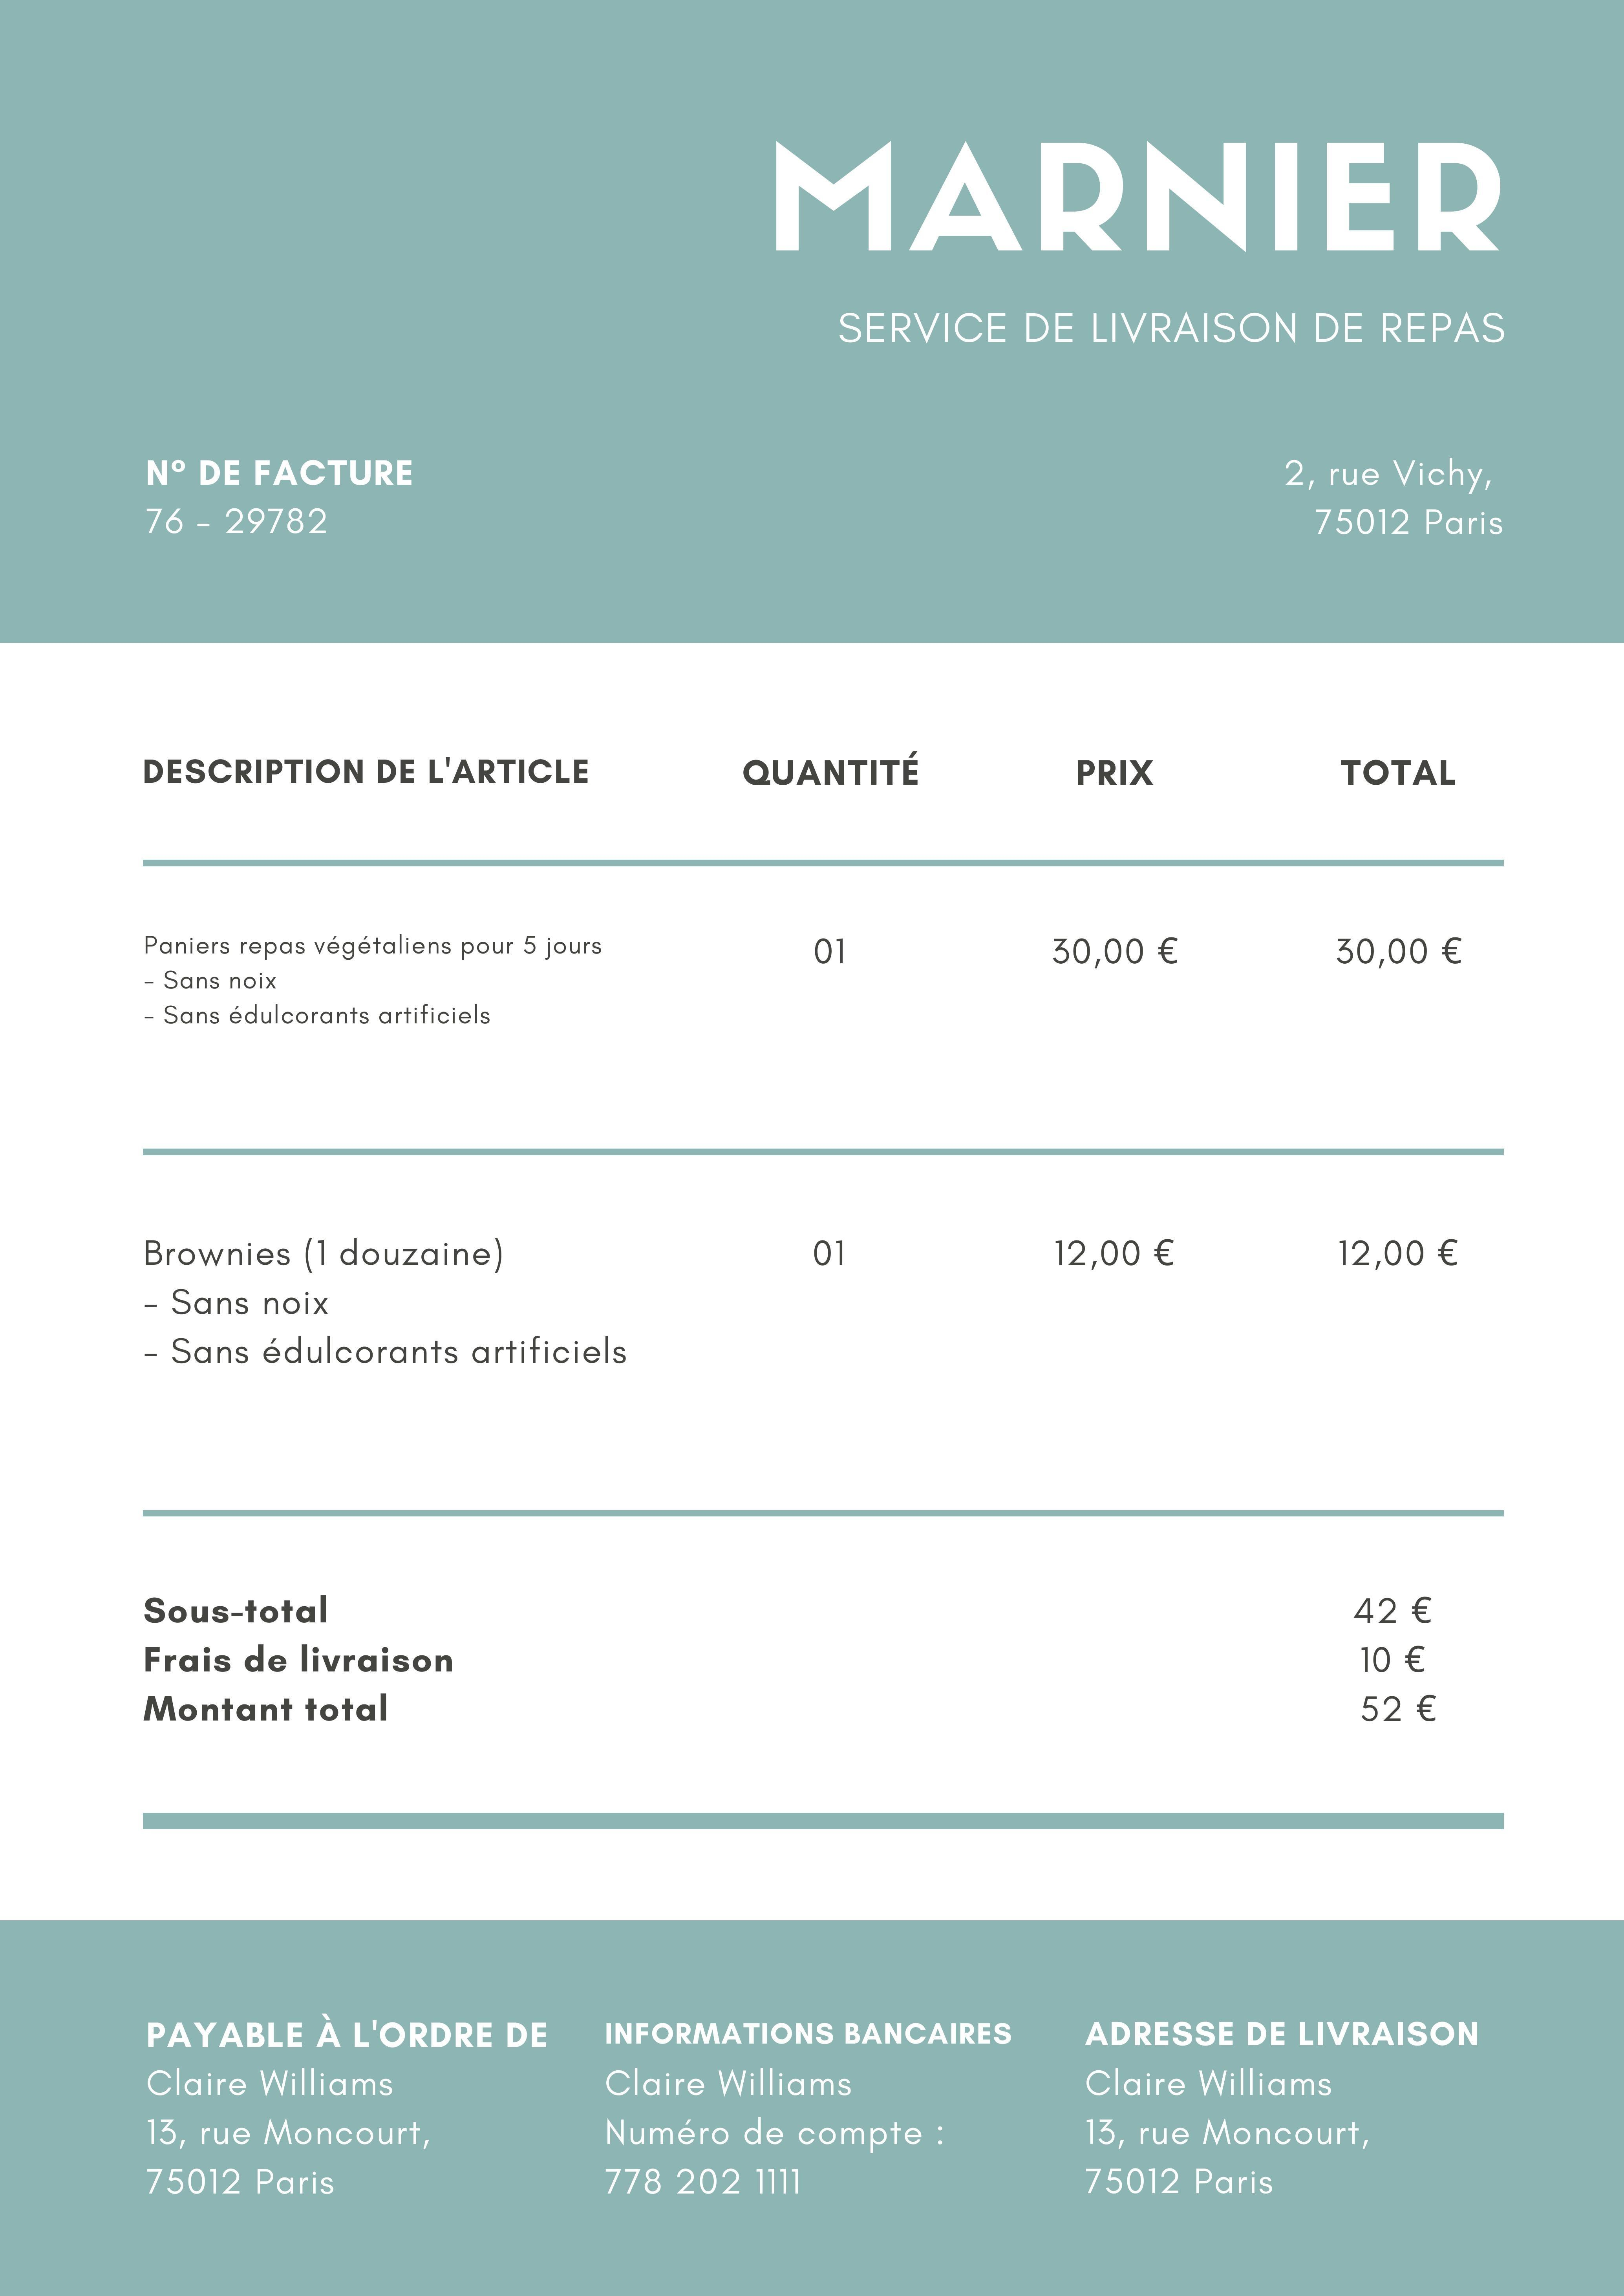ROI: (114, 695, 1504, 1507), (742, 90, 1555, 546), (134, 1578, 1465, 1755), (585, 1998, 1033, 2218), (149, 1994, 558, 2218), (94, 424, 436, 557)
